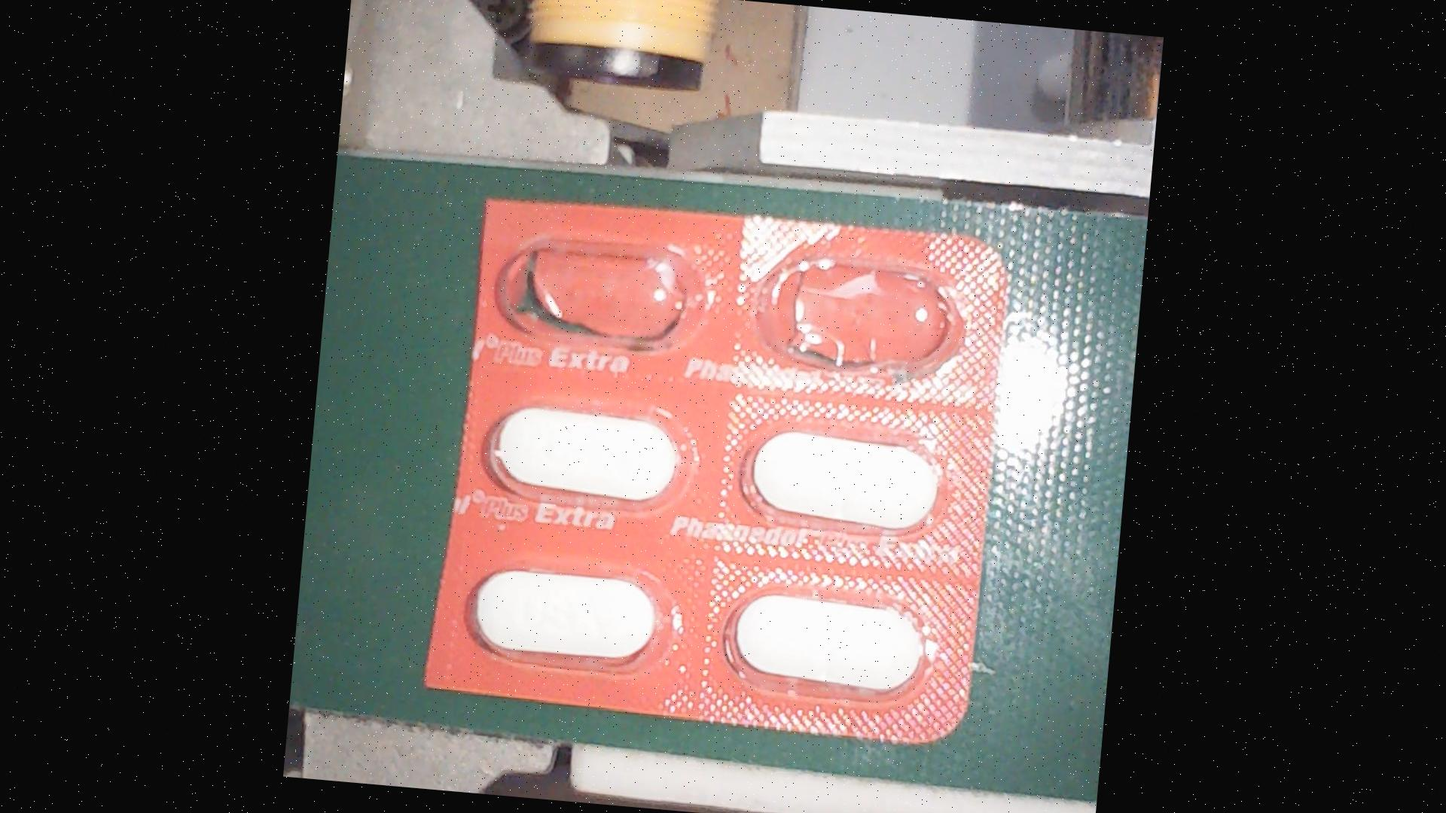Empty: (746, 246, 975, 393), (484, 222, 713, 369)
Full: (727, 410, 957, 557), (473, 383, 702, 530), (450, 547, 679, 694), (708, 574, 937, 721)
